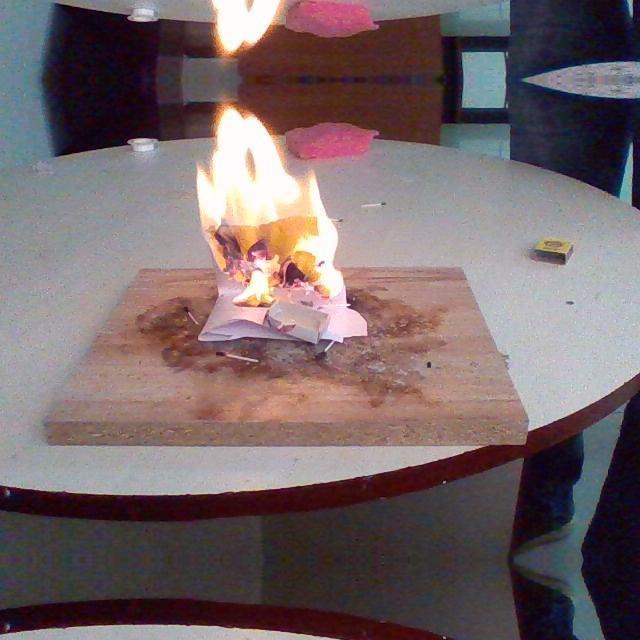smoke: (193, 104, 349, 310), (193, 0, 355, 55)
